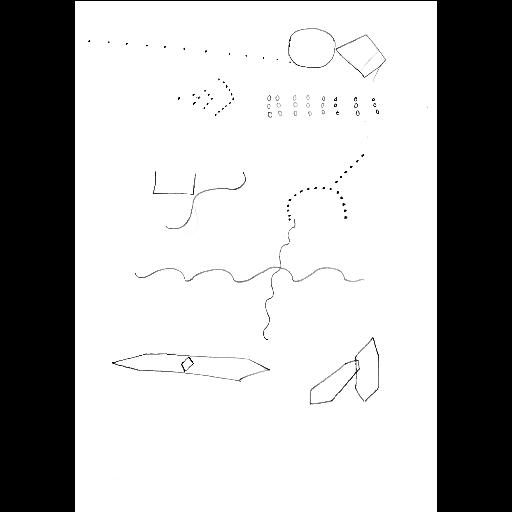shape-1: (286, 24, 388, 80)
shape-2: (84, 32, 292, 66)
shape-3: (264, 88, 384, 124)
shape-4: (172, 72, 238, 120)
shape-5: (146, 164, 248, 234)
shape-6: (283, 149, 367, 225)
shape-7: (130, 222, 366, 346)
shape-8: (305, 335, 385, 413)
shape-9: (107, 348, 273, 384)
